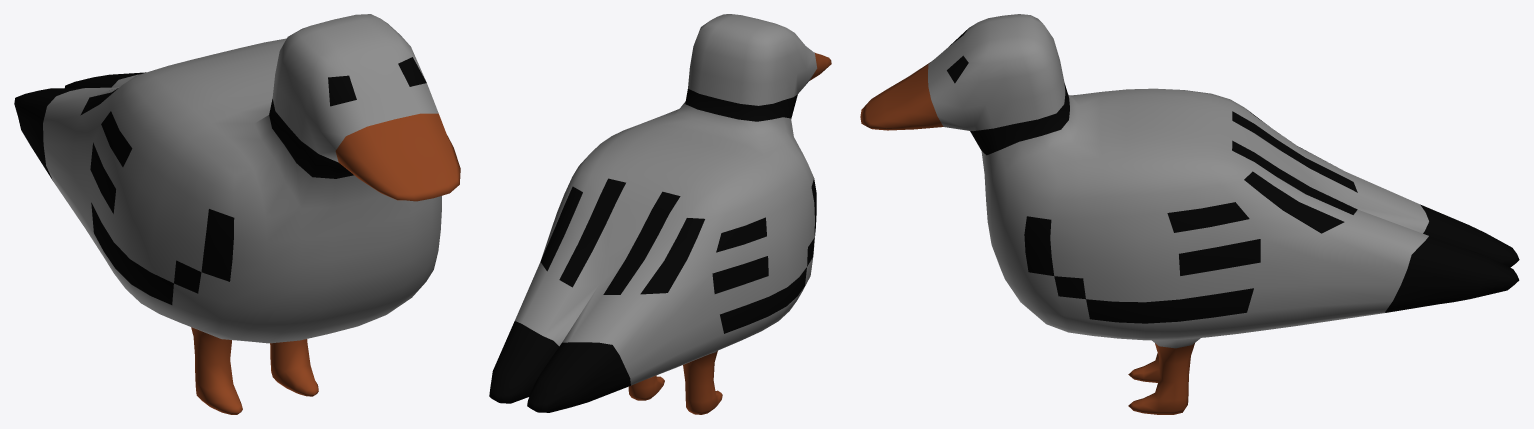
Rendered from birb.fbx.
3 renders of one model, left to right at view 1: azimuth 30°, elevation 25°; view 2: azimuth 150°, elevation 25°; view 3: azimuth 270°, elevation 25°, orthographic. The views are drawn at different scales.
Parts seen in each view (by area): view 1: Birb; view 2: Birb; view 3: Birb.
Part boxes in pixels (x1=…): Birb: x1=14, y1=14, x2=460, y2=414; Birb: x1=489, y1=14, x2=831, y2=414; Birb: x1=860, y1=14, x2=1519, y2=414.
Size of the model in its own units: 0.6589 by 0.9957 by 1.61.
Materials: 1 (1 with a texture image).
